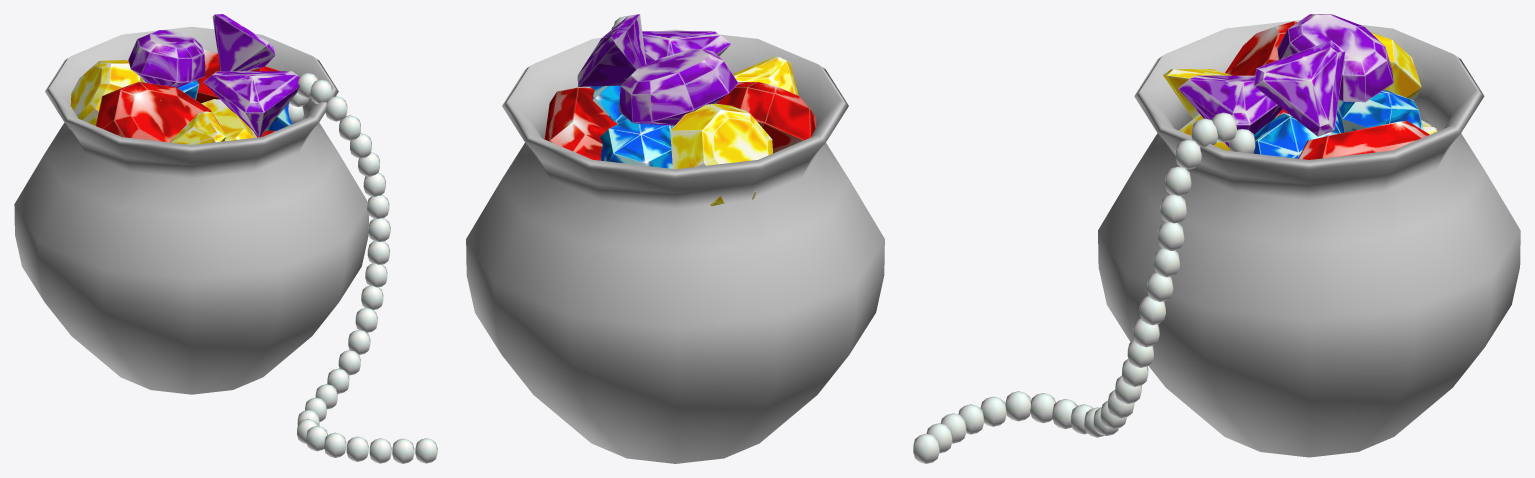
File: jug_005.fbx
3 views of the same model, side by side, from view 1: azimuth 30°, elevation 25°; view 2: azimuth 150°, elevation 25°; view 3: azimuth 270°, elevation 25° (orthographic). The views are drawn at different scales.
Parts seen in each view (by area): view 1: jug_0053, jug_0051, jug_0052; view 2: jug_0053, jug_0051; view 3: jug_0053, jug_0051, jug_0052.
Boxes of the visible parts, bbox=[...] form: jug_0053: bbox=[14, 26, 368, 394]; jug_0051: bbox=[68, 14, 299, 144]; jug_0052: bbox=[288, 73, 437, 463]; jug_0053: bbox=[466, 29, 884, 463]; jug_0051: bbox=[544, 14, 816, 206]; jug_0053: bbox=[1098, 20, 1520, 457]; jug_0051: bbox=[1163, 14, 1437, 159]; jug_0052: bbox=[913, 112, 1255, 463].
Size of the model in its own units: 22.53 by 23.41 by 32.38.
